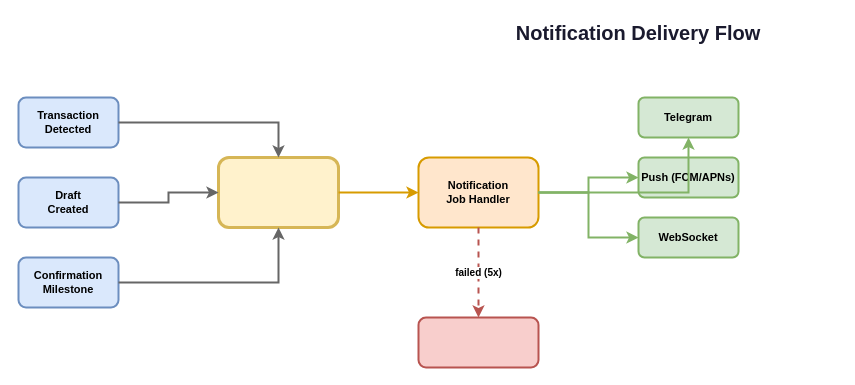
Image size: 855x385. Some labels were removed from this diagram. Here are the shapes that lost their labels. From the top down, the box of each, then its label:
(216, 156, 340, 228): Job Queue (BullMQ)
(417, 316, 539, 368): Dead Letter Queue
